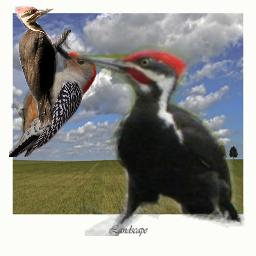Woodpecker: (79, 38, 245, 236), (9, 43, 97, 157), (15, 6, 71, 131)
